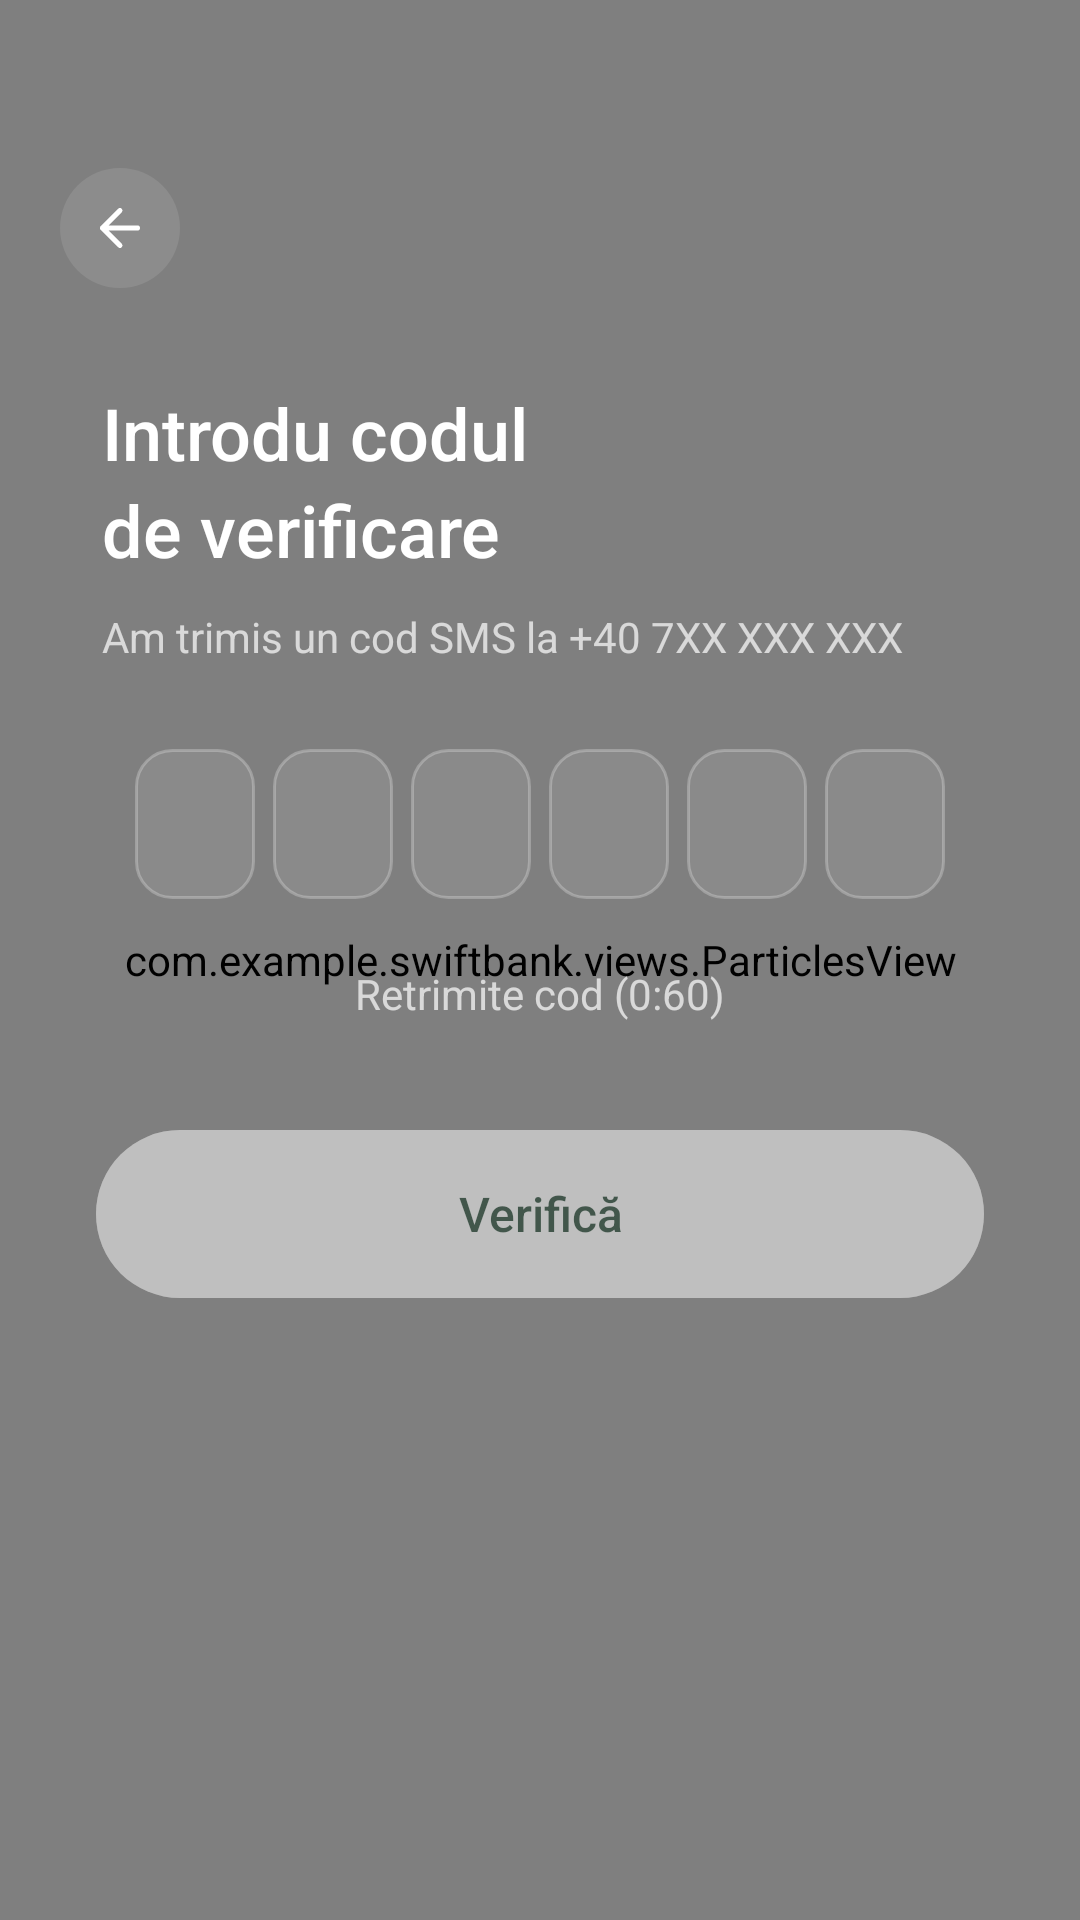

Icons on this 1080w x 1920h Android screen, each with the point to tap as (x=x, y=y):
Inapoi: (x=120, y=228)
